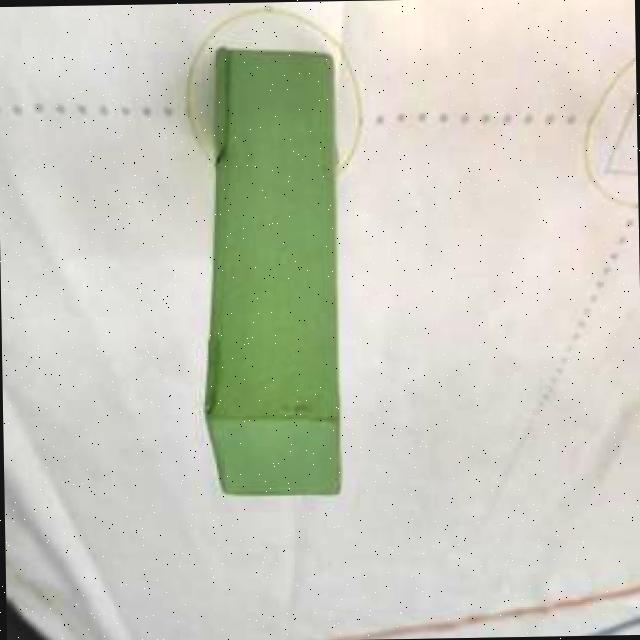greenbox: (194, 39, 351, 502)
